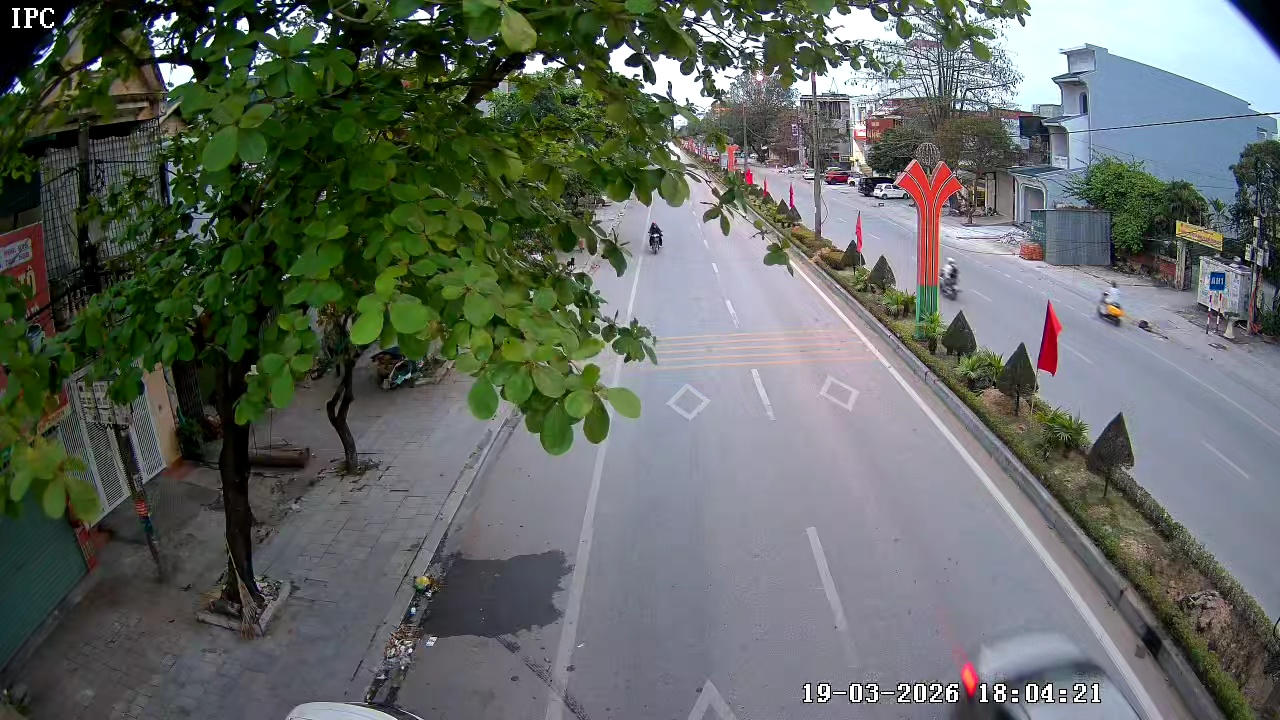motorbike: (1095, 284, 1125, 328), (645, 218, 665, 256)
